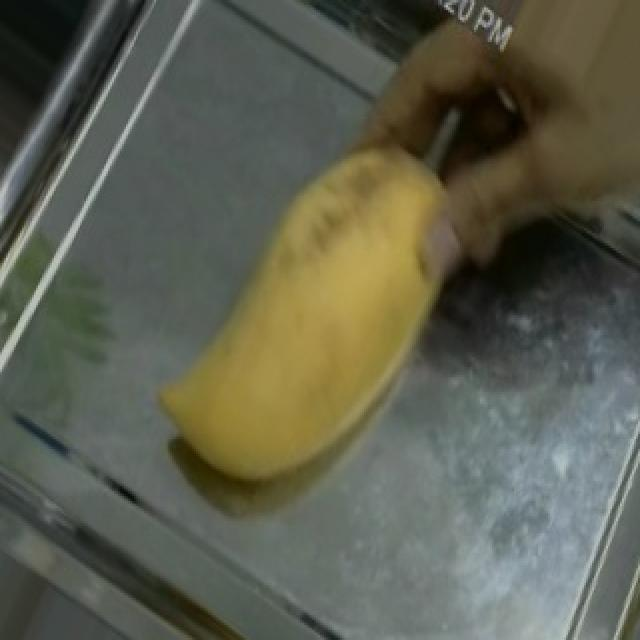fruit: (154, 60, 520, 516), (460, 0, 640, 263)
